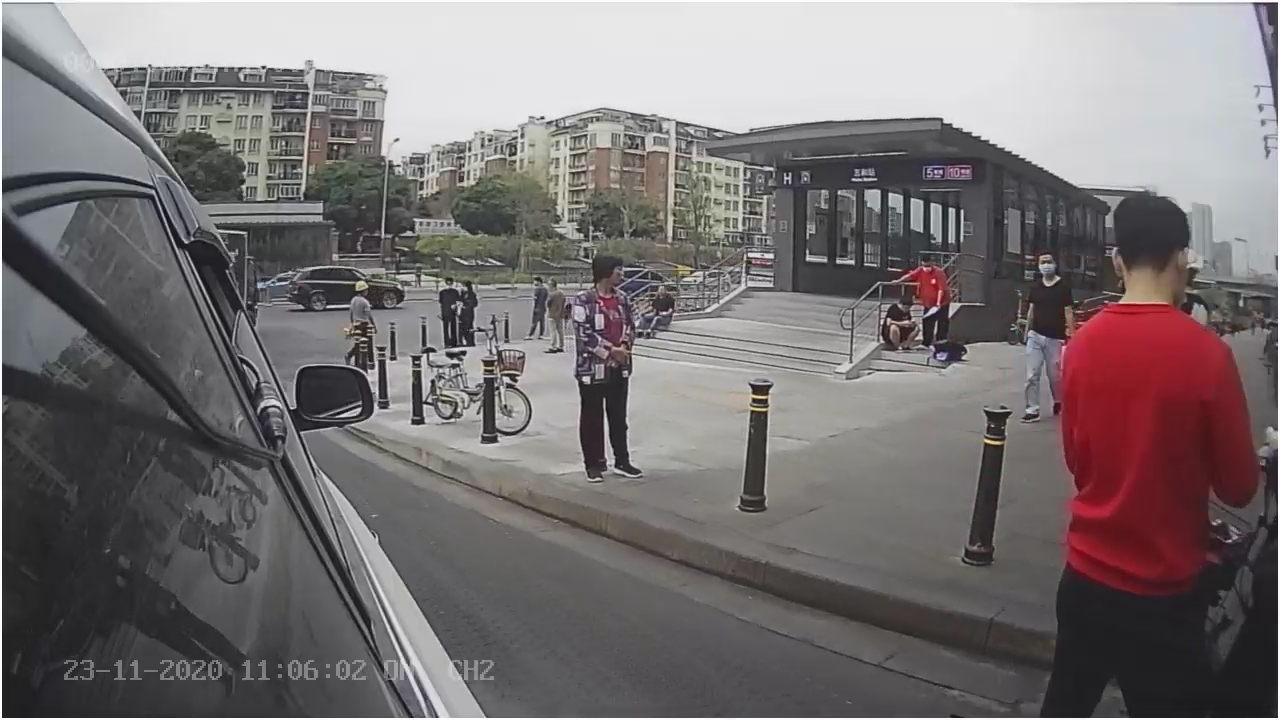person: (567, 251, 650, 486)
